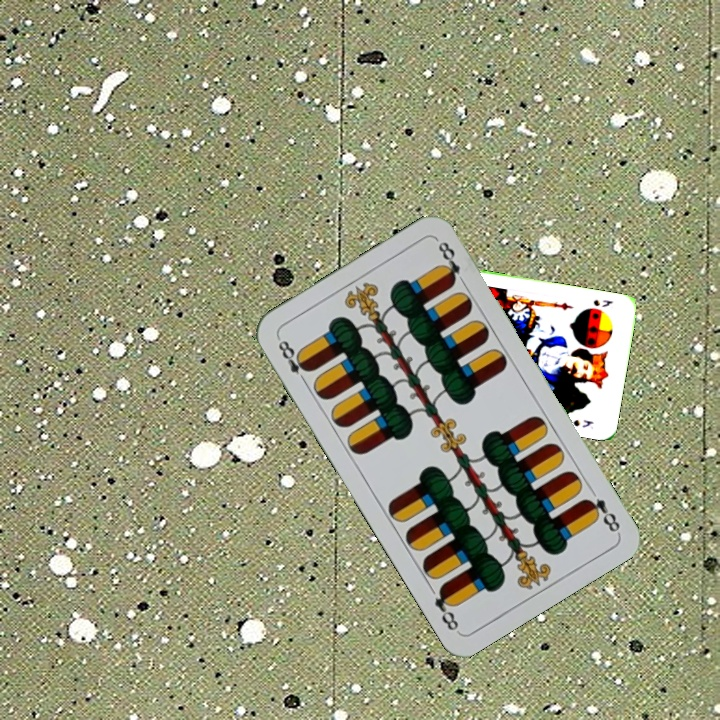E8: (273, 333, 313, 387), (580, 494, 623, 535)
SK: (589, 295, 615, 310)
